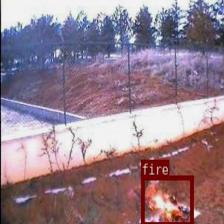fire: (140, 174, 192, 224)
